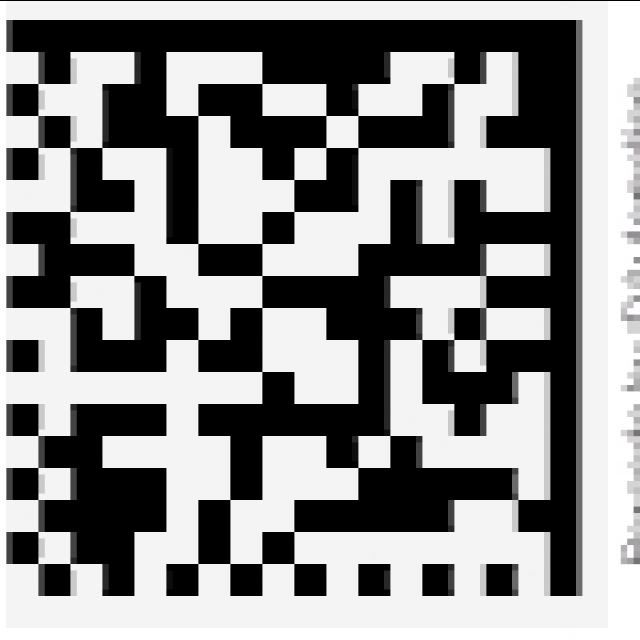DataMatrix: (6, 0, 608, 627)
